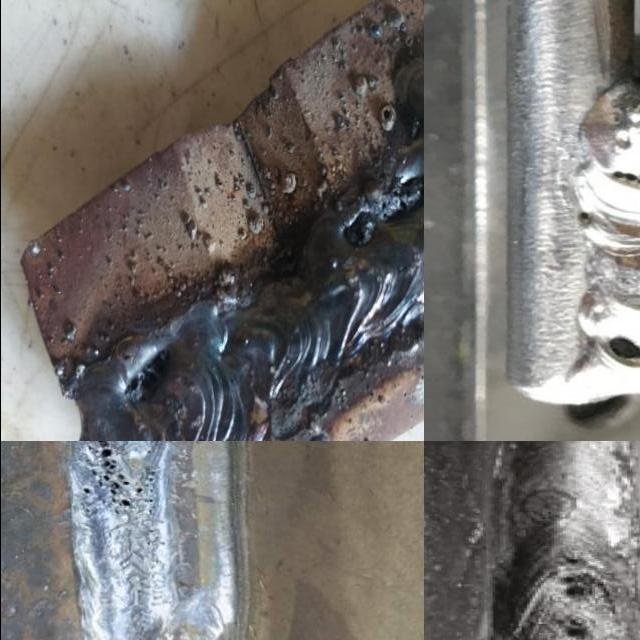defect: (345, 173, 423, 248), (78, 441, 150, 514), (545, 549, 616, 603), (121, 340, 174, 408), (599, 333, 640, 374), (544, 613, 604, 640), (610, 164, 640, 192), (575, 207, 594, 222)
